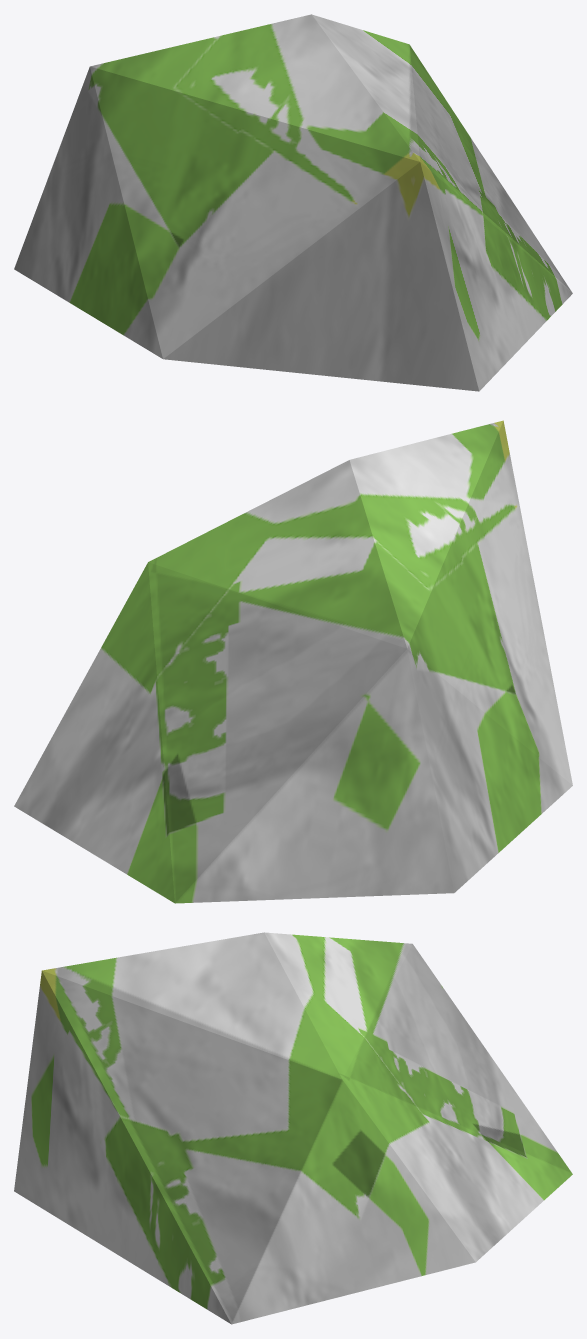
File: MossyRock3.FBX
3 views of the same model, one above another, from view 1: azimuth 30°, elevation 25°; view 2: azimuth 150°, elevation 25°; view 3: azimuth 270°, elevation 25° (orthographic). The views are drawn at different scales.
Parts seen in each view (by area): view 1: GeoSphere003; view 2: GeoSphere003; view 3: GeoSphere003.
Part boxes in pixels (x1,y1,x2,y2): GeoSphere003: (14,14,572,391); GeoSphere003: (14,420,572,903); GeoSphere003: (14,932,572,1324).
Size of the model in its own units: 61.86 by 44.91 by 76.92.
Materials: 1 (1 with a texture image).
